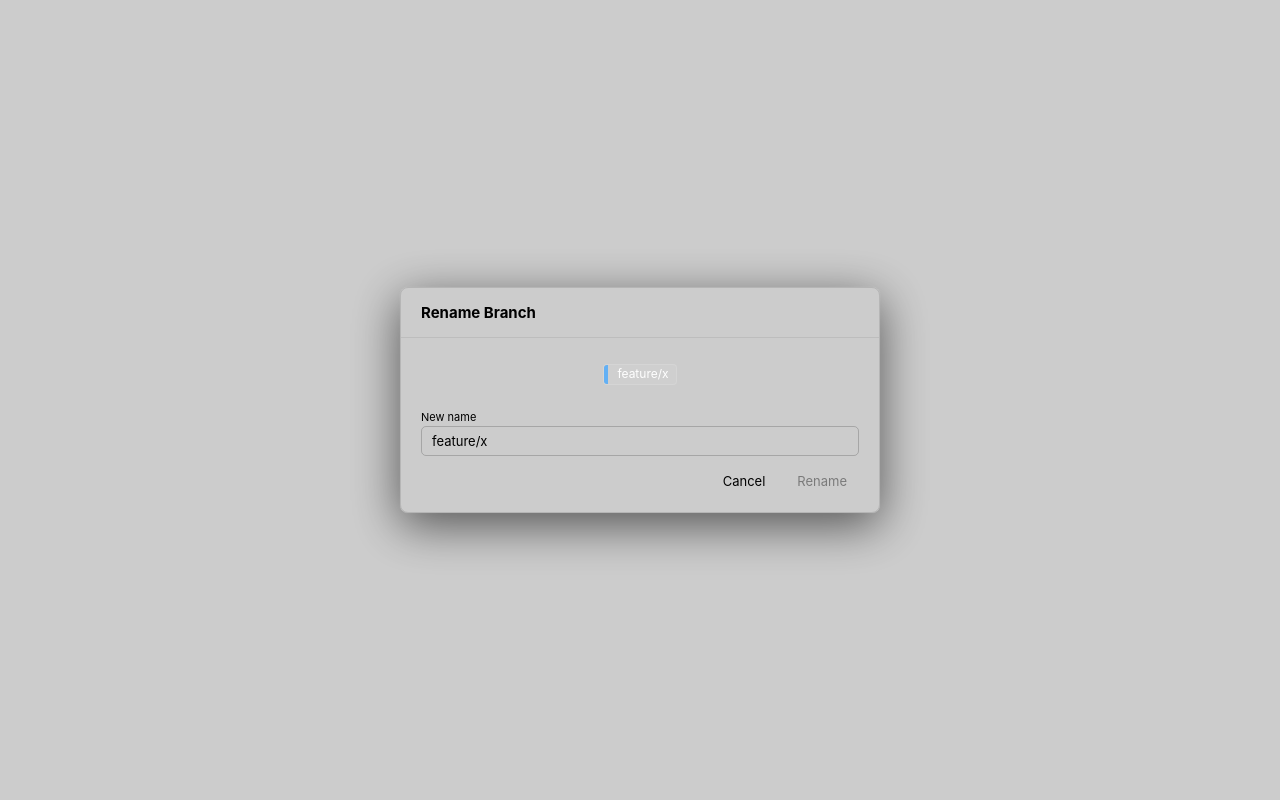
Test case: RenameBranchModal › disables submit and shows warning when the name has invalid characters
Replace the text in the field with id "rename-branch-input" with "bad:name": {"x": 640, "y": 441} [421, 426, 859, 456]
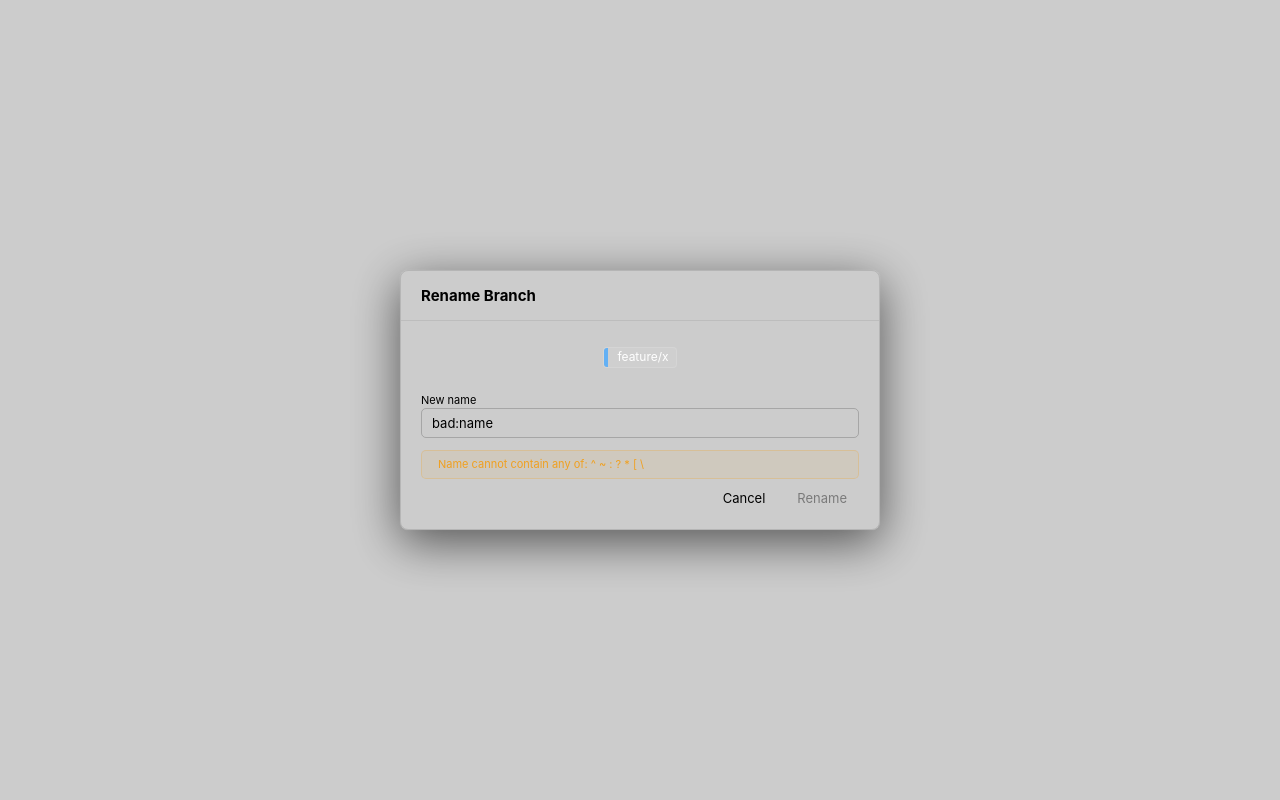
Expected: the button "Rename" is disabled, [785, 485, 859, 511]
Now the message "Name cannot contain any of: ^ ~ : ? * [ \\" is shown, box [421, 450, 859, 479]
